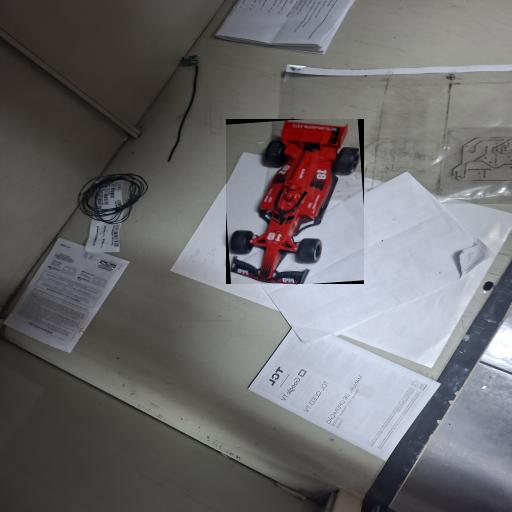carro: (226, 120, 362, 283)
